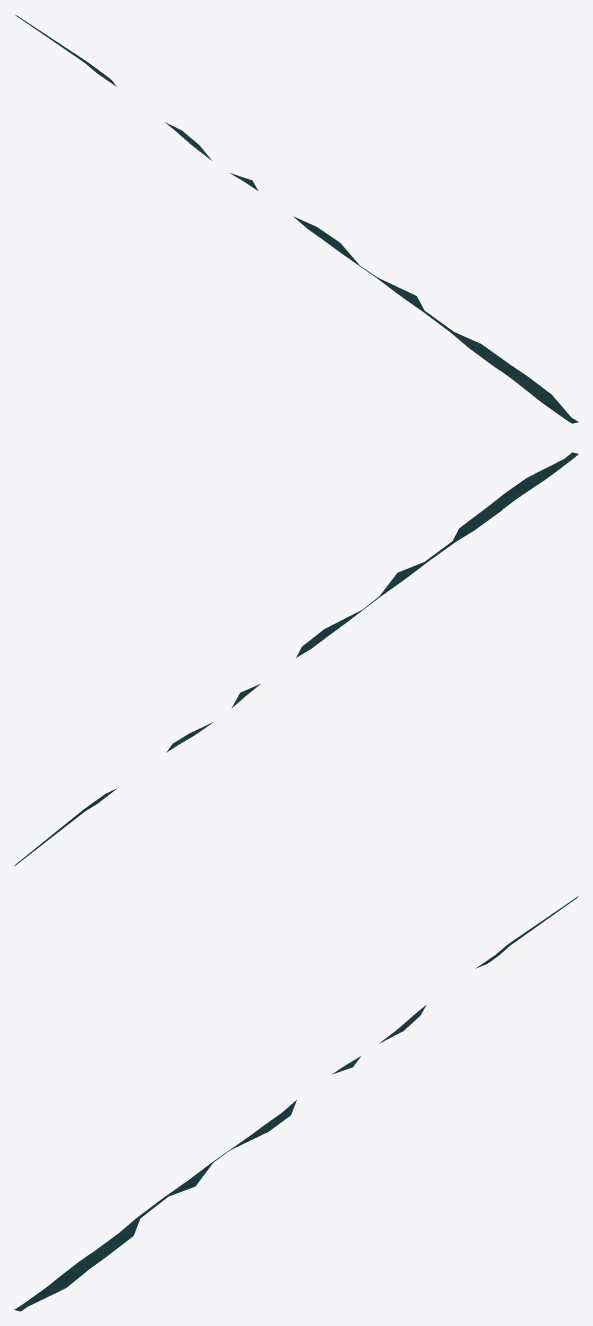
3 renders of one model, top to bottom at view 1: azimuth 30°, elevation 25°; view 2: azimuth 150°, elevation 25°; view 3: azimuth 330°, elevation 25°, orthographic.
Bounding box in the file's own units: 1.58 × 0.4948 × 97.78.
Materials: 1 (1 with a texture image).
